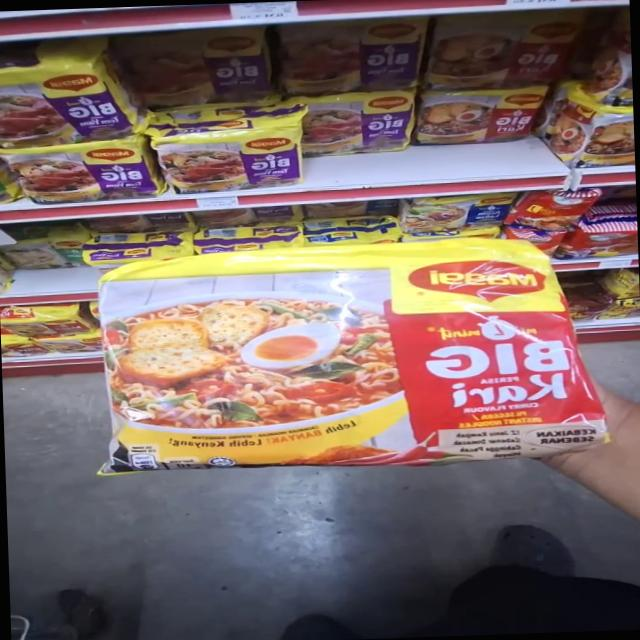Maggi: (85, 237, 585, 478), (0, 58, 138, 146), (154, 116, 296, 198), (420, 21, 578, 90), (1, 136, 145, 208), (409, 86, 558, 154), (272, 38, 423, 98), (302, 93, 408, 158), (148, 52, 253, 108)
